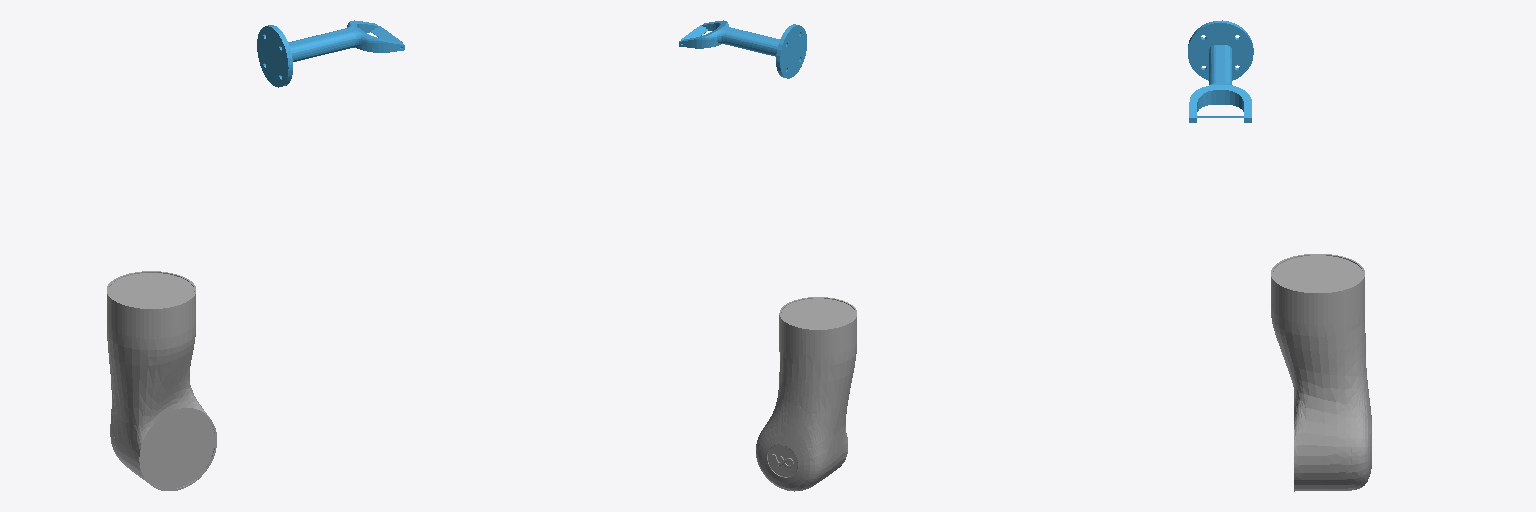
The robot description file, URDF, robot "rizon4":
<?xml version="1.0"?>
<!-- ======================================================================== -->
<!-- | Flexiv Rizon 4 (with blurred dynamic parameters)                     | -->
<!-- ======================================================================== -->
<robot name="rizon4">
  <joint name="joint1" type="revolute">
    <parent link="base_link" />
    <child link="link1" />
    <origin rpy="0.0 0.0 -3.141592653589793" xyz="0.0 0.0 0.155" />
    <axis xyz="0 0 1" />
    <limit effort="123" lower="-2.7925" upper="2.7925" velocity="2.0944" />
  </joint>
  <joint name="joint2" type="revolute">
    <parent link="link1" />
    <child link="link2" />
    <origin rpy="0.0 0.0 0.0" xyz="0.0 0.03 0.21" />
    <axis xyz="0 1 0" />
    <limit effort="123" lower="-2.2689" upper="2.2689" velocity="2.0944" />
  </joint>
  <joint name="joint3" type="revolute">
    <parent link="link2" />
    <child link="link3" />
    <origin rpy="0.0 0.0 0.0" xyz="0.0 0.035 0.205" />
    <axis xyz="0 0 1" />
    <limit effort="64" lower="-2.9671" upper="2.9671" velocity="2.4435" />
  </joint>
  <joint name="joint4" type="revolute">
    <parent link="link3" />
    <child link="link4" />
    <origin rpy="0.0 0.0 -3.141592653589793" xyz="-0.02 -0.03 0.19" />
    <axis xyz="0 1 0" />
    <limit effort="64" lower="-1.8675" upper="2.6878" velocity="2.4435" />
  </joint>
  <joint name="joint5" type="revolute">
    <parent link="link4" />
    <child link="link5" />
    <origin rpy="0.0 0.0 -3.141592653589793" xyz="-0.02 0.025 0.195" />
    <axis xyz="0 0 1" />
    <limit effort="39" lower="-2.9671" upper="2.9671" velocity="4.8869" />
  </joint>
  <joint name="joint6" type="revolute">
    <parent link="link5" />
    <child link="link6" />
    <origin rpy="0.0 0.0 0.0" xyz="0.0 0.03 0.19" />
    <axis xyz="0 1 0" />
    <limit effort="39" lower="-1.3963" upper="4.5379" velocity="4.8869" />
  </joint>
  <joint name="joint7" type="revolute">
    <parent link="link6" />
    <child link="link7" />
    <origin rpy="0.0 -1.5707963478683205 0.0" xyz="-0.015 0.073 0.11" />
    <axis xyz="0 0 1" />
    <limit effort="39" lower="-2.9671" upper="2.9671" velocity="4.8869" />
  </joint>
  <joint name="link7_to_flange" type="fixed">
    <parent link="link7" />
    <child link="flange" />
    <origin rpy="0.0 0.0 -3.141592653589793" xyz="0.0 0.0 0.081" />
  </joint>

  <link name="base_link">
    <inertial>
      <mass value="3.7" />
      <origin rpy="0 0 0" xyz="0.0 -0.0 0.09" />
      <inertia ixx="0.02" ixy="0.0" ixz="0.0" iyy="0.02" iyz="0.0" izz="0.01" />
    </inertial>
    <visual name="shell">
      <origin rpy="0 0 0" xyz="0 0 0" />
      <geometry>
        <mesh filename="./meshes/visual/link0.obj" />
      </geometry>
      <material name="rizon_light_grey" />
    </visual>
    <collision name="hull">
      <origin rpy="0 0 0" xyz="0 0 0" />
      <geometry>
        <mesh filename="./meshes/collision/link0.stl" />
      </geometry>
    </collision>
  </link>
  <link name="link1">
    <inertial>
      <mass value="3.7" />
      <origin rpy="0 0 0" xyz="0.0 0.01 0.15" />
      <inertia ixx="0.03" ixy="0.0" ixz="0.0" iyy="0.03" iyz="0.0" izz="0.01" />
    </inertial>
    <visual name="shell">
      <origin rpy="0 0 0" xyz="0 0 0" />
      <geometry>
        <mesh filename="./meshes/visual/link1.obj" />
      </geometry>
      <material name="rizon_light_grey" />
    </visual>
    <visual name="ring">
      <origin rpy="0 0 0" xyz="0 0 -0.0025" />
      <geometry>
        <mesh filename="./meshes/visual/ring.obj" scale="0.062 0.062 0.002" />
      </geometry>
      <material name="rizon_white" />
    </visual>
    <collision name="hull">
      <origin rpy="0 0 0" xyz="0 0 0" />
      <geometry>
        <mesh filename="./meshes/collision/link1.stl" />
      </geometry>
    </collision>
  </link>
  <link name="link2">
    <inertial>
      <mass value="2.7" />
      <origin rpy="0 0 0" xyz="0.0 0.04 0.1" />
      <inertia ixx="0.02" ixy="0.0" ixz="0.0" iyy="0.02" iyz="-0.0" izz="0.0" />
    </inertial>
    <visual name="shell">
      <origin rpy="0 0 0" xyz="0 0 0" />
      <geometry>
        <mesh filename="./meshes/visual/link2.obj" />
      </geometry>
      <material name="rizon_light_grey" />
    </visual>
    <visual name="ring">
      <origin rpy="1.5707963 0 0" xyz="0 -0.0025 0" />
      <geometry>
        <mesh filename="./meshes/visual/ring.obj" scale="0.062 0.062 0.002" />
      </geometry>
      <material name="rizon_white" />
    </visual>
    <collision name="hull">
      <origin rpy="0 0 0" xyz="0 0 0" />
      <geometry>
        <mesh filename="./meshes/collision/link2.stl" />
      </geometry>
    </collision>
  </link>
  <link name="link3">
    <inertial>
      <mass value="2.4" />
      <origin rpy="0 0 0" xyz="-0.01 -0.0 0.13" />
      <inertia ixx="0.01" ixy="0.0" ixz="-0.0" iyy="0.01" iyz="-0.0" izz="0.0" />
    </inertial>
    <visual name="shell">
      <origin rpy="0 0 0" xyz="0 0 0" />
      <geometry>
        <mesh filename="./meshes/visual/link3.obj" />
      </geometry>
      <material name="rizon_light_grey" />
    </visual>
    <visual name="ring">
      <origin rpy="0 0 0" xyz="0 0 -0.0025" />
      <geometry>
        <mesh filename="./meshes/visual/ring.obj" scale="0.051 0.051 0.002" />
      </geometry>
      <material name="rizon_white" />
    </visual>
    <collision name="hull">
      <origin rpy="0 0 0" xyz="0 0 0" />
      <geometry>
        <mesh filename="./meshes/collision/link3.stl" />
      </geometry>
    </collision>
  </link>
  <link name="link4">
    <inertial>
      <mass value="2.4" />
      <origin rpy="0 0 0" xyz="-0.01 0.03 0.1" />
      <inertia ixx="0.02" ixy="0.0" ixz="-0.0" iyy="0.02" iyz="-0.0" izz="0.0" />
    </inertial>
    <visual name="shell">
      <origin rpy="0 0 0" xyz="0 0 0" />
      <geometry>
        <mesh filename="./meshes/visual/link4.obj" />
      </geometry>
      <material name="rizon_light_grey" />
    </visual>
    <visual name="ring">
      <origin rpy="1.5707963 0 0" xyz="0 -0.0025 0" />
      <geometry>
        <mesh filename="./meshes/visual/ring.obj" scale="0.051 0.051 0.002" />
      </geometry>
      <material name="rizon_white" />
    </visual>
    <collision name="hull">
      <origin rpy="0 0 0" xyz="0 0 0" />
      <geometry>
        <mesh filename="./meshes/collision/link4.stl" />
      </geometry>
    </collision>
  </link>
  <link name="link5">
    <inertial>
      <mass value="2.4" />
      <origin rpy="0 0 0" xyz="-0.0 0.0 0.13" />
      <inertia ixx="0.01" ixy="0.0" ixz="0.0" iyy="0.01" iyz="0.0" izz="0.0" />
    </inertial>
    <visual name="shell">
      <origin rpy="0 0 0" xyz="0 0 0" />
      <geometry>
        <mesh filename="./meshes/visual/link5.obj" />
      </geometry>
      <material name="rizon_light_grey" />
    </visual>
    <visual name="ring">
      <origin rpy="0 0 0" xyz="0 0 -0.0025" />
      <geometry>
        <mesh filename="./meshes/visual/ring.obj" scale="0.051 0.051 0.002" />
      </geometry>
      <material name="rizon_white" />
    </visual>
    <collision name="hull">
      <origin rpy="0 0 0" xyz="0 0 0" />
      <geometry>
        <mesh filename="./meshes/collision/link5.stl" />
      </geometry>
    </collision>
  </link>
  <link name="link6">
    <inertial>
      <mass value="2.2" />
      <origin rpy="0 0 0" xyz="0.02 0.06 0.07" />
      <inertia ixx="0.01" ixy="0.0" ixz="0.0" iyy="0.01" iyz="0.0" izz="0.0" />
    </inertial>
    <visual name="shell">
      <origin rpy="0 0 0" xyz="0 0 0" />
      <geometry>
        <mesh filename="./meshes/visual/link6.obj" />
      </geometry>
      <material name="rizon_light_grey" />
    </visual>
    <visual name="ring">
      <origin rpy="1.5707963 0 0" xyz="0 -0.0025 0" />
      <geometry>
        <mesh filename="./meshes/visual/ring.obj" scale="0.051 0.051 0.002" />
      </geometry>
      <material name="rizon_white" />
    </visual>
    <collision name="hull">
      <origin rpy="0 0 0" xyz="0 0 0" />
      <geometry>
        <mesh filename="./meshes/collision/link6.stl" />
      </geometry>
    </collision>
  </link>
  <link name="link7">
    <inertial>
      <mass value="0.8" />
      <origin rpy="0 0 0" xyz="0.0 -0.0 0.03" />
      <inertia ixx="0.0" ixy="0.0" ixz="0.0" iyy="0.0" iyz="0.0" izz="0.0" />
    </inertial>
    <visual name="shell">
      <origin rpy="0 0 0" xyz="0 0 0" />
      <geometry>
        <mesh filename="./meshes/visual/link7.obj" />
      </geometry>
      <material name="rizon_light_grey" />
    </visual>
    <visual name="ring">
      <origin rpy="0 0 0" xyz="0 0 -0.0025" />
      <geometry>
        <mesh filename="./meshes/visual/ring.obj" scale="0.051 0.051 0.002" />
      </geometry>
      <material name="rizon_white" />
    </visual>
    <collision name="hull">
      <origin rpy="0 0 0" xyz="0 0 0" />
      <geometry>
        <mesh filename="./meshes/collision/link7.stl" />
      </geometry>
    </collision>
  </link>

  <link name="flange">
    <inertial>
      <mass value="0.0" />
      <origin rpy="0 0 0" xyz="0.0 0.0 0.0" />
      <inertia ixx="0.0" ixy="0.0" ixz="0.0" iyy="0.0" iyz="0.0" izz="0.0" />
    </inertial>
  </link>

  <link name="tool">
    <inertial>
      <mass value="0.56" />
      <origin rpy="0 0 0" xyz="0.0 0.0 0.0" />
      <inertia ixx="0.0009" ixy="0.0" ixz="0.0" iyy="0.001" iyz="0.0" izz="0.0009" />
    </inertial>
    <visual>
      <origin rpy="0 0 0" xyz="0 0 0" />
      <geometry>
        <mesh filename="meshes/peeler.obj" />
      </geometry>
    </visual>
    <collision>
      <origin rpy="0 0 0" xyz="0 0 0" />
      <geometry>
        <mesh filename="meshes/peeler.obj" />
      </geometry>
    </collision>
  </link>

  <joint name="flange2tool" type="fixed">
    <parent link="flange" />
    <child link="tool" />
    <origin rpy="0.0 0.0 1.5707963" xyz="0.0 0.0 0.0015" />
  </joint>

  <material name="rizon_light_grey">
    <color rgba="0.7 0.7 0.7 1.0" />
  </material>
  <material name="rizon_dark_grey">
    <color rgba="0.4 0.4 0.4 1.0" />
  </material>
  <material name="rizon_white">
    <color rgba="1.0 1.0 1.0 1.0" />
  </material>
</robot>

--- What the picture shows (computed from the rendered views, not written in the file) ---
Views: 3 orthographic renders of the robot side by side, from view 1: azimuth 30°, elevation 25°; view 2: azimuth 150°, elevation 25°; view 3: azimuth 270°, elevation 25°.
Robot: rizon4 — 10 links, 9 joints (7 revolute, 2 fixed); root link base_link; default pose: every joint at zero.
Links seen in each view (by area): view 1: link4, tool; view 2: link4, tool; view 3: link4, tool.
Link boxes in pixels (box(x1,y1,x2,y2)): link4: box(107, 271, 216, 490); tool: box(257, 20, 404, 87); link4: box(756, 297, 856, 491); tool: box(679, 20, 806, 78); link4: box(1271, 254, 1371, 491); tool: box(1188, 20, 1253, 122).
Bounding box of the posed robot: 0.2982 × 0.1955 × 0.5798 m (x, y, z).
2 mesh visuals loaded from 10 distinct referenced files (2 OBJ); not drawn: 14 (reference not matched to a file when rendering).